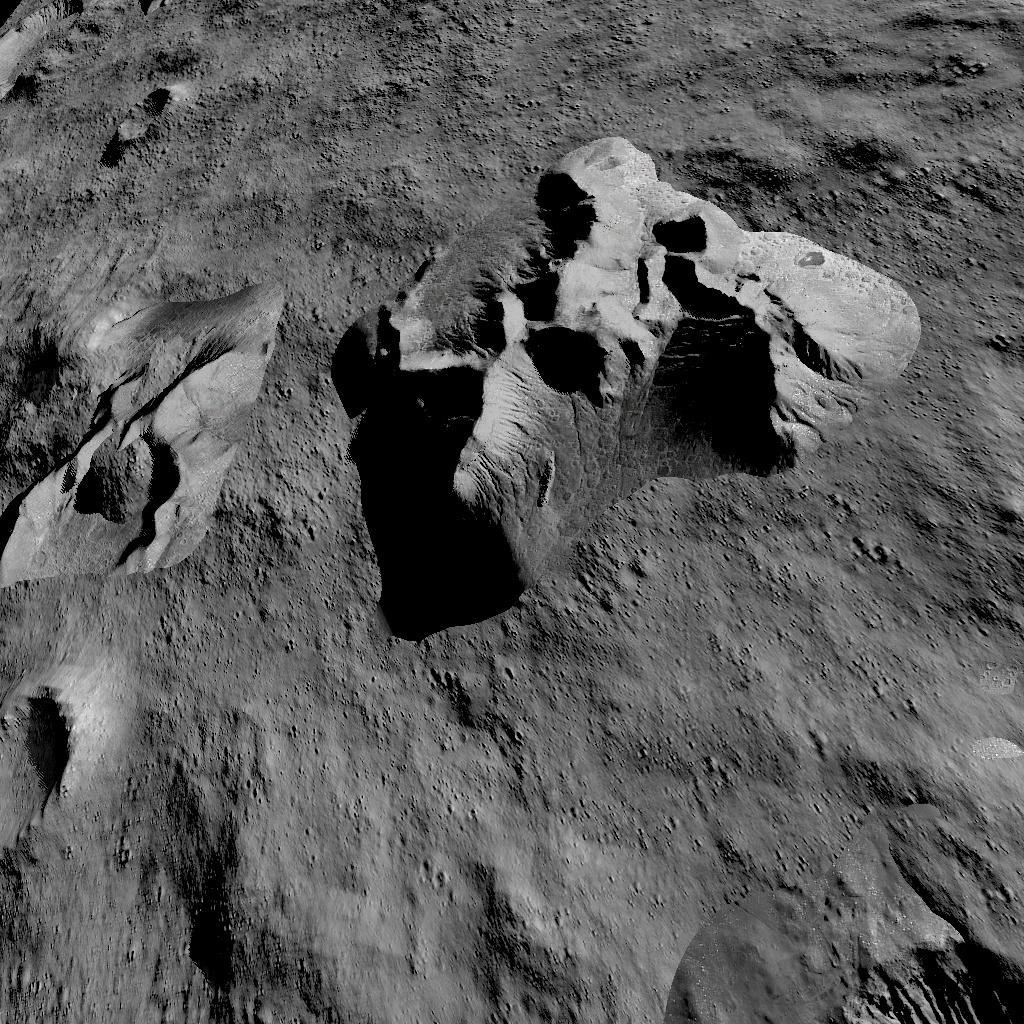Boulders: (325, 129, 950, 647), (102, 0, 196, 26), (468, 0, 556, 21)
Crater: (0, 304, 252, 604), (829, 930, 1024, 1024), (0, 663, 72, 850), (0, 0, 91, 90), (107, 80, 206, 162)
Plan surface: (107, 680, 796, 1014), (829, 666, 1024, 916), (575, 0, 1024, 104), (0, 178, 252, 285), (212, 2, 446, 108)
